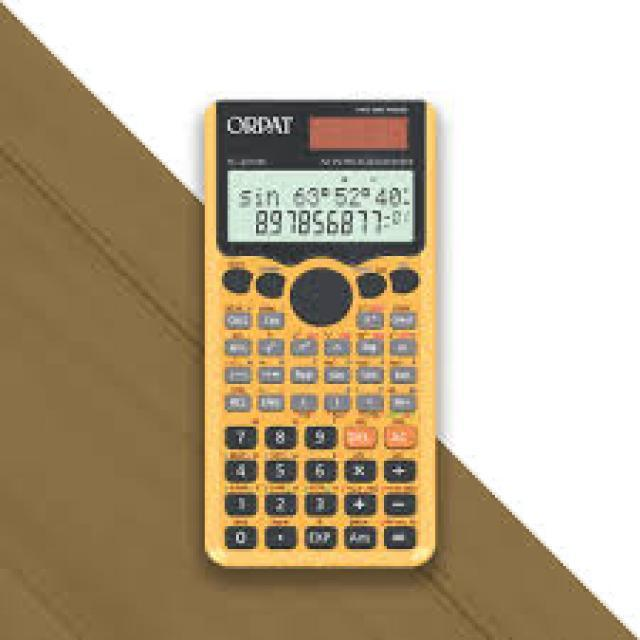Calculator: (200, 95, 440, 572)
